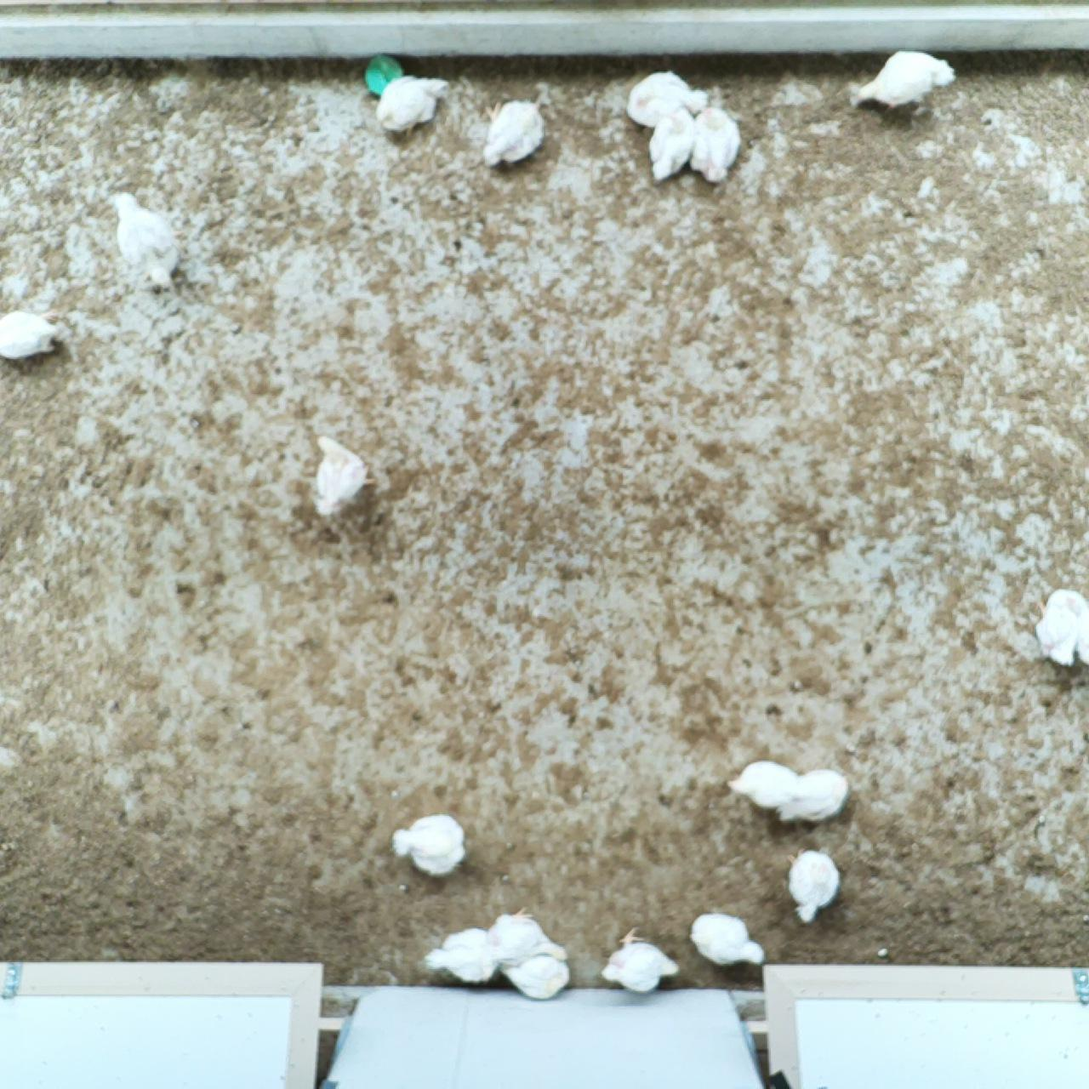chicken: (107, 189, 184, 292), (850, 43, 960, 113), (598, 924, 683, 998), (623, 66, 712, 131), (479, 91, 551, 171), (310, 432, 378, 516), (483, 905, 572, 968), (390, 811, 469, 879), (373, 72, 452, 138), (423, 923, 503, 986), (687, 909, 768, 970), (688, 105, 748, 186), (775, 765, 854, 826), (784, 845, 844, 924), (1033, 584, 1089, 668), (720, 757, 803, 812), (497, 948, 574, 1003), (647, 104, 698, 185), (0, 308, 59, 362)
